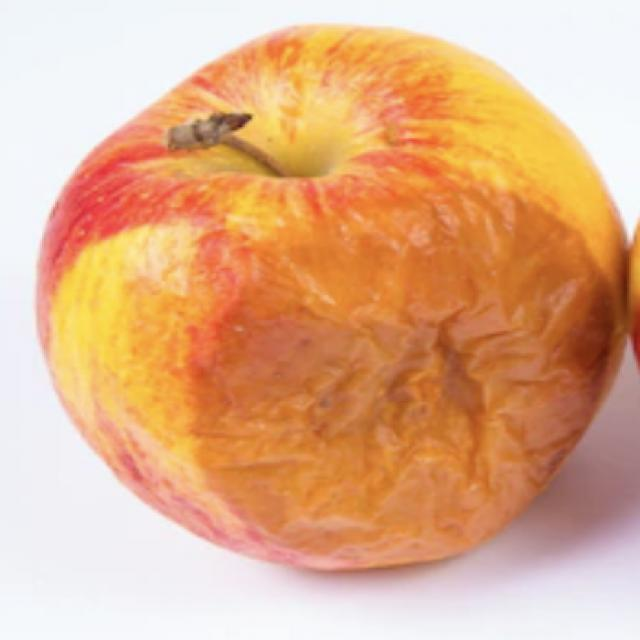Rotten: (61, 51, 632, 572)
